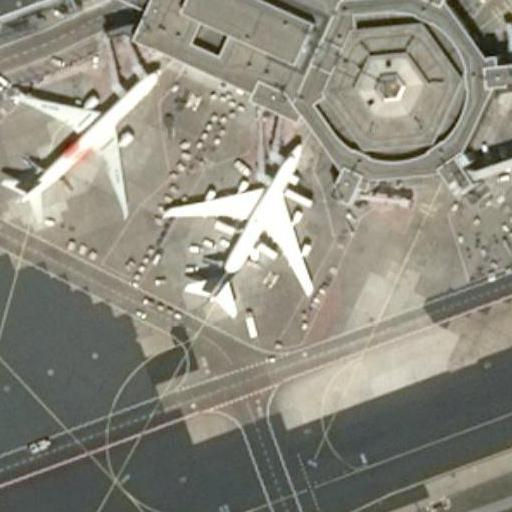Aircraft: (0, 46, 160, 223), (163, 134, 314, 320)
